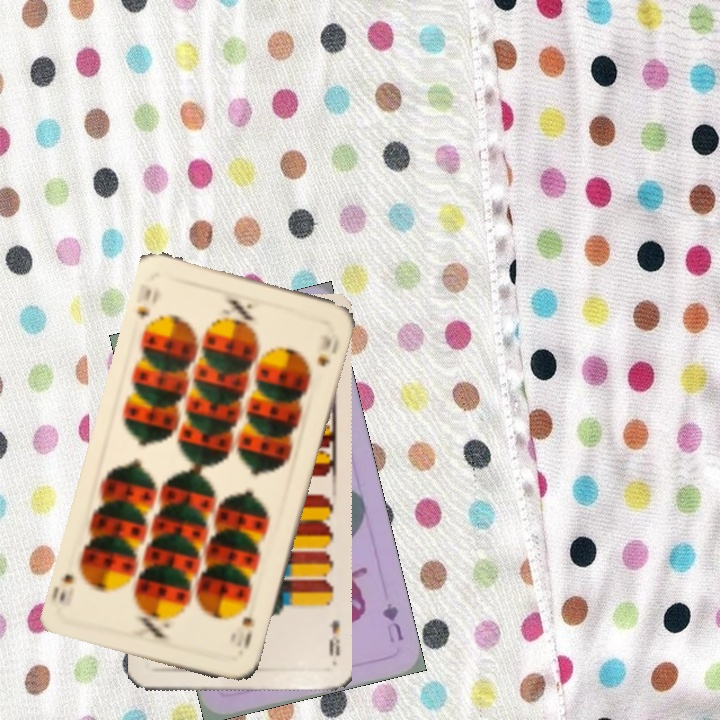E9: (324, 616, 342, 659)
GU: (378, 599, 407, 645)
S10: (133, 283, 154, 322), (238, 612, 257, 651)
